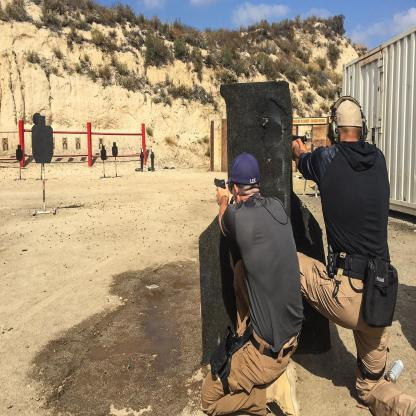Pistol: (212, 178, 226, 192), (292, 132, 306, 145)
